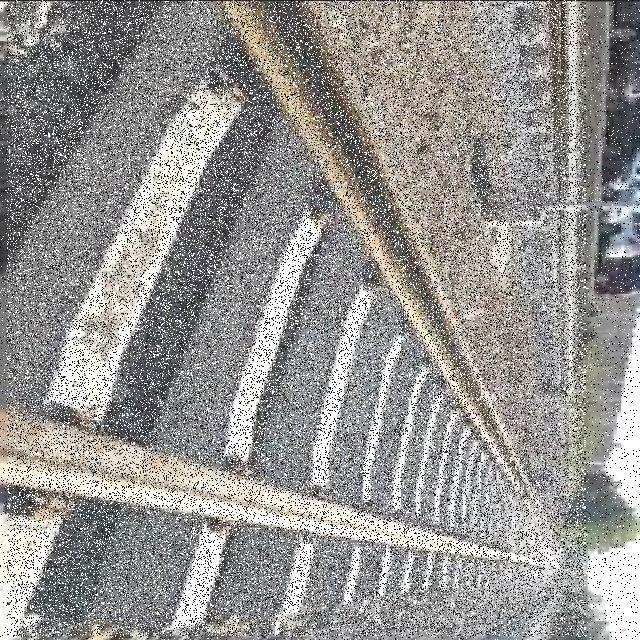rail: (8, 2, 586, 637)
